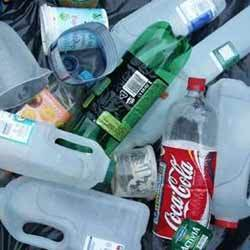plastic_bottle: (47, 15, 207, 212), (89, 1, 236, 156), (138, 32, 237, 250), (1, 82, 148, 211), (1, 159, 182, 250)
